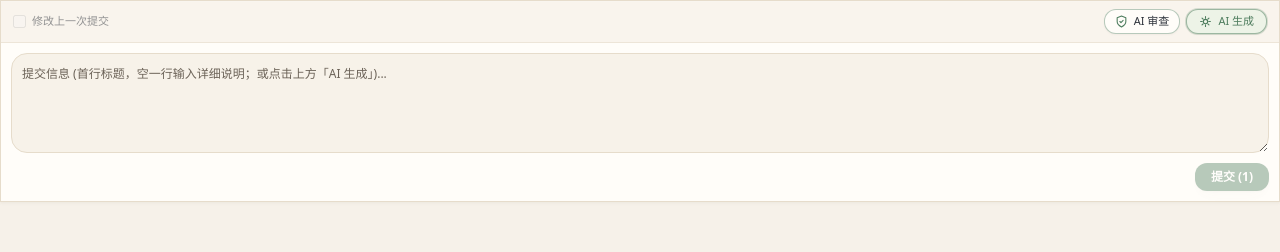
Test: CommitPanel component › AT-06b: keeps commit message and displays error on hook failure
In the text box with placeholder "提交信息 (首行标题，空一行输入详细说明；或点击上方「AI 生成」)...": (640,103) [11,53,1269,153], type "fix: broken code"
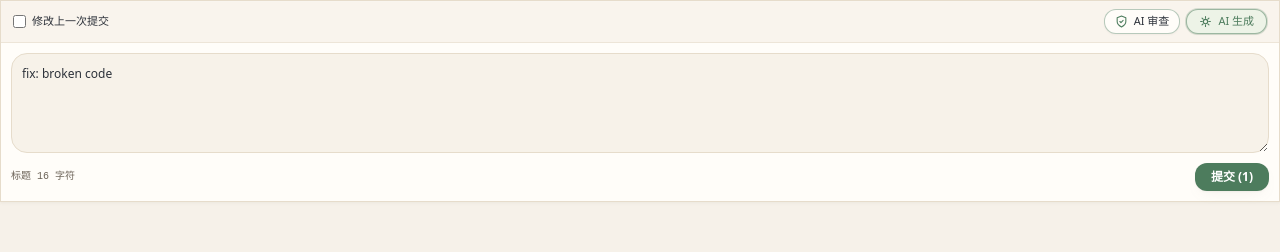
Click the button "提交 (1)": (1232,177) [1195,163,1269,191]
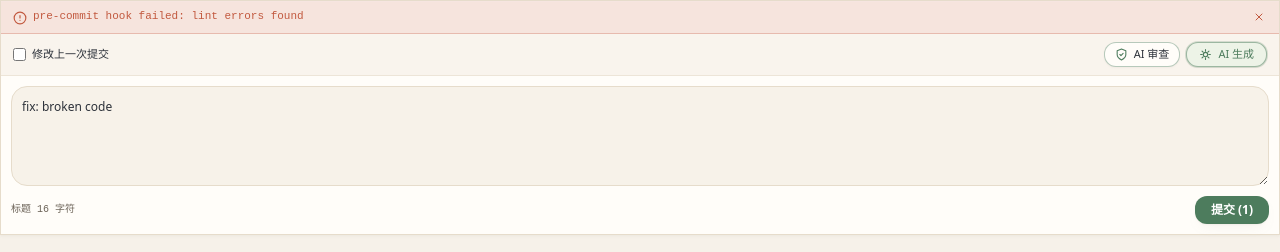
Now the text "pre-commit hook failed: lint errors found" is shown, box [33,9,304,24]
